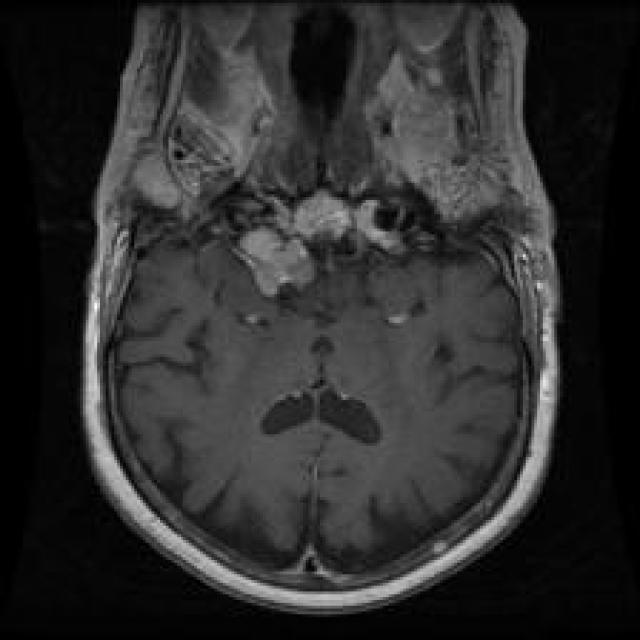meningioma_tumor: (228, 214, 334, 314)
